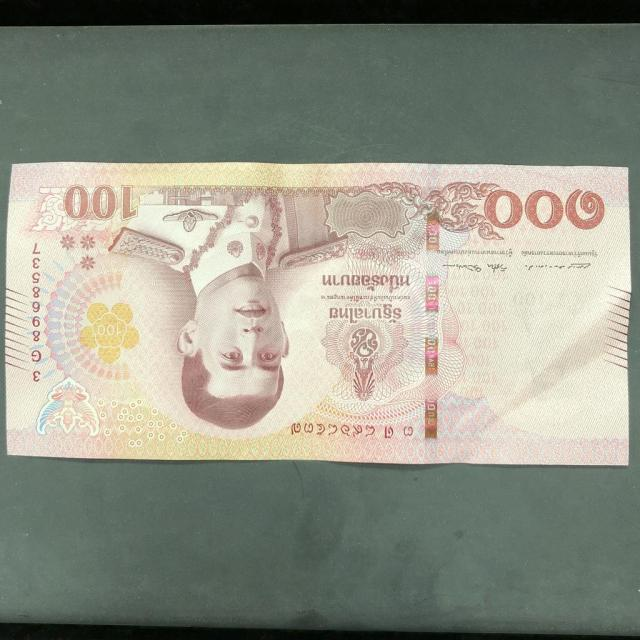THAI100: (6, 162, 630, 464)
